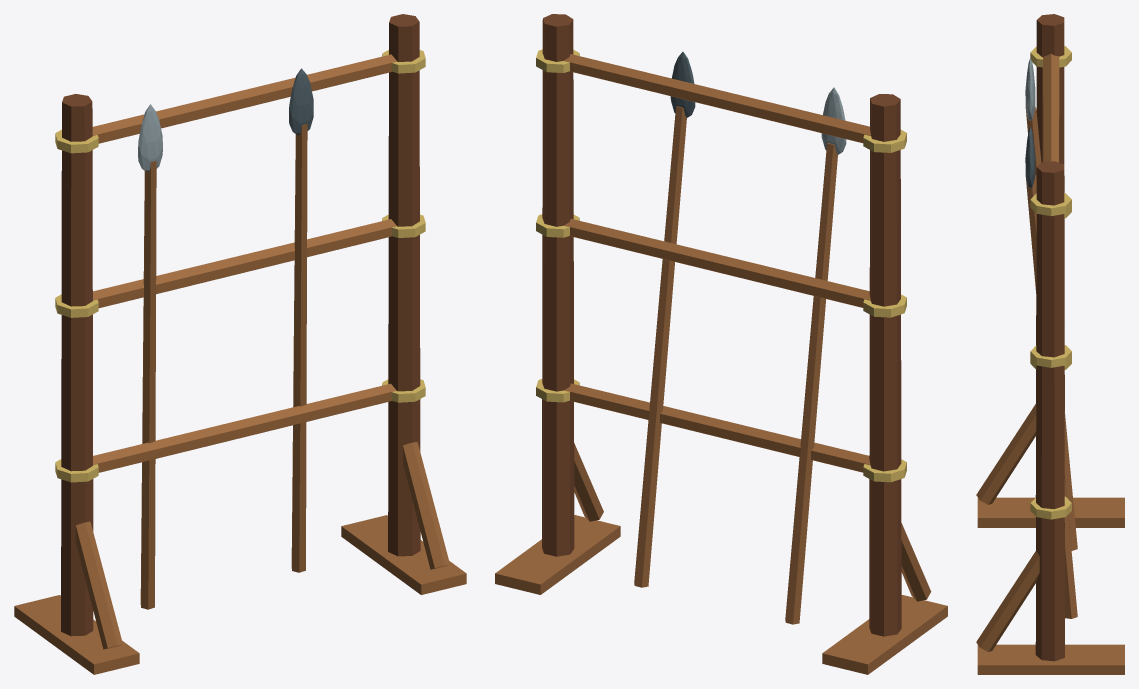
File: rack_weapon.glb
3 renders of one model, left to right at view 1: azimuth 30°, elevation 25°; view 2: azimuth 150°, elevation 25°; view 3: azimuth 270°, elevation 25°, orthographic. The views are drawn at different scales.
Visible parts, largest first — view 1: rack_weapon.001; view 2: rack_weapon.001; view 3: rack_weapon.001.
Part boxes in pixels (x1,y1,x2,y2): rack_weapon.001: (14,14,466,674); rack_weapon.001: (495,14,947,674); rack_weapon.001: (976,14,1124,674).
Size of the model in its own units: 1.21 by 1.68 by 0.455.
